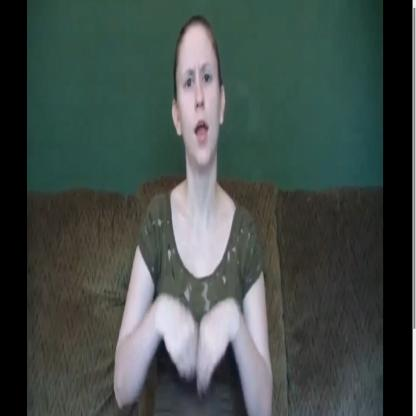HowAreYou: (114, 19, 272, 416)
